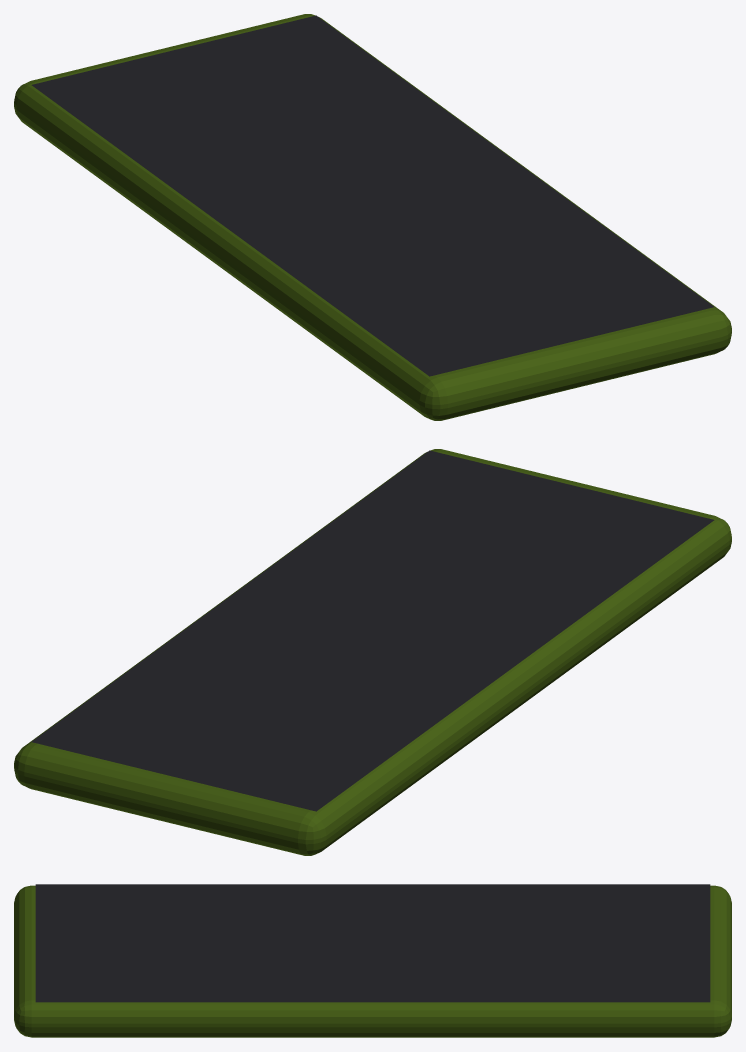
File: Phone_360.glb
The picture shows the model from 3 angles, top to bottom: view 1: azimuth 30°, elevation 25°; view 2: azimuth 150°, elevation 25°; view 3: azimuth 270°, elevation 25°; orthographic projection. The views are drawn at different scales.
Visible parts, largest first — view 1: Phone_Screen, Phone_Body; view 2: Phone_Screen, Phone_Body; view 3: Phone_Screen, Phone_Body.
Part boxes in pixels (bbox=[...]): Phone_Screen: bbox=[31, 15, 713, 376]; Phone_Body: bbox=[14, 14, 731, 420]; Phone_Screen: bbox=[32, 450, 714, 811]; Phone_Body: bbox=[14, 449, 731, 855]; Phone_Screen: bbox=[35, 884, 710, 1002]; Phone_Body: bbox=[14, 885, 731, 1037].
Size of the model in its own units: 0.0702 by 0.0092 by 0.1663.
